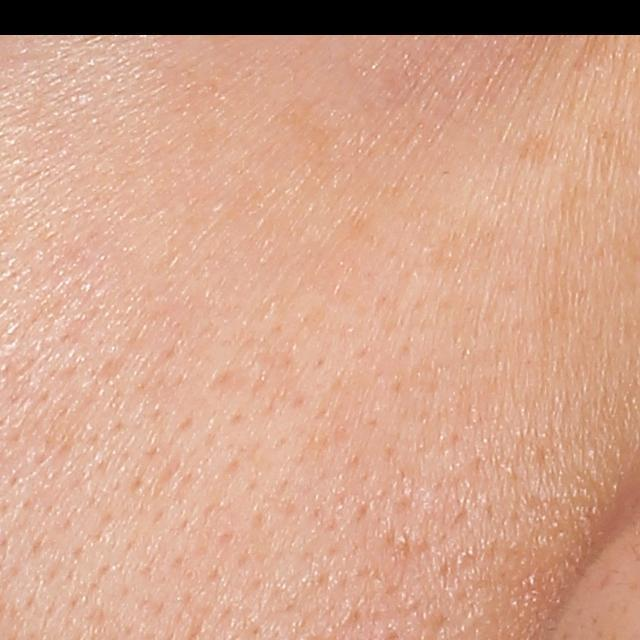melasma: (510, 126, 570, 177)
